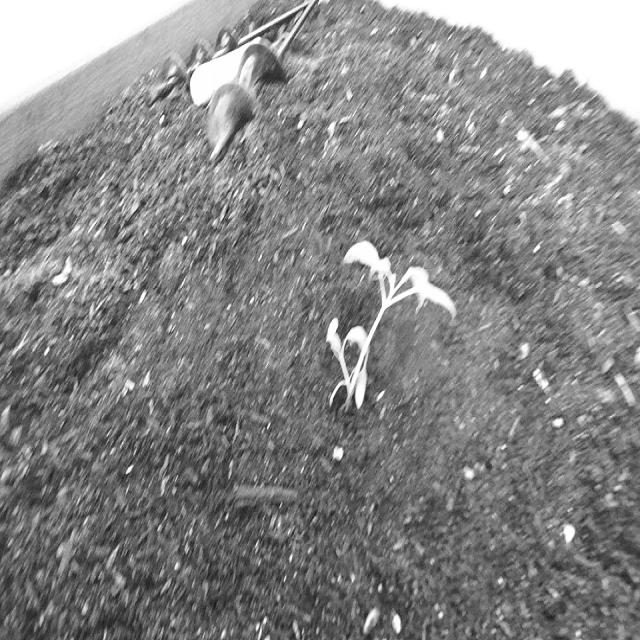Healthy: (311, 208, 467, 438)
